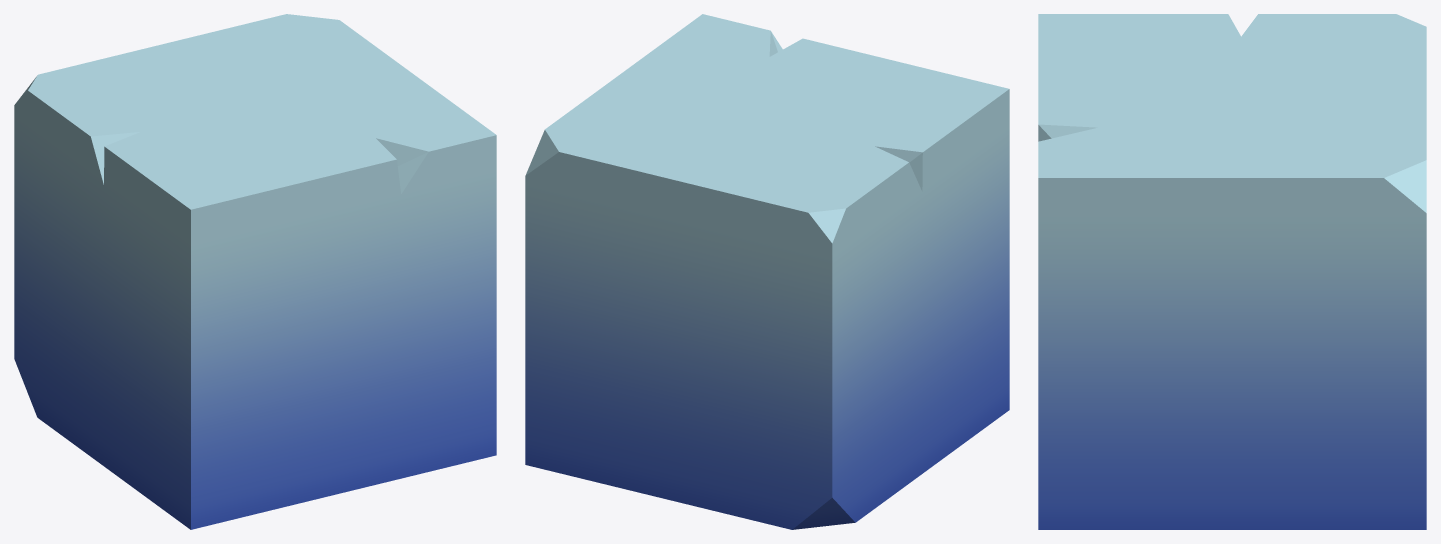
File: Stone020.fbx
The picture shows the model from 3 angles, left to right: view 1: azimuth 30°, elevation 25°; view 2: azimuth 150°, elevation 25°; view 3: azimuth 270°, elevation 25°; orthographic projection. The views are drawn at different scales.
Parts seen in each view (by area): view 1: Stone020; view 2: Stone020; view 3: Stone020.
Part boxes in pixels (<box>): Stone020: <box>14,14,496,529</box>; Stone020: <box>525,14,1009,529</box>; Stone020: <box>1038,14,1426,529</box>.
Size of the model in its own units: 156 by 156 by 156.
